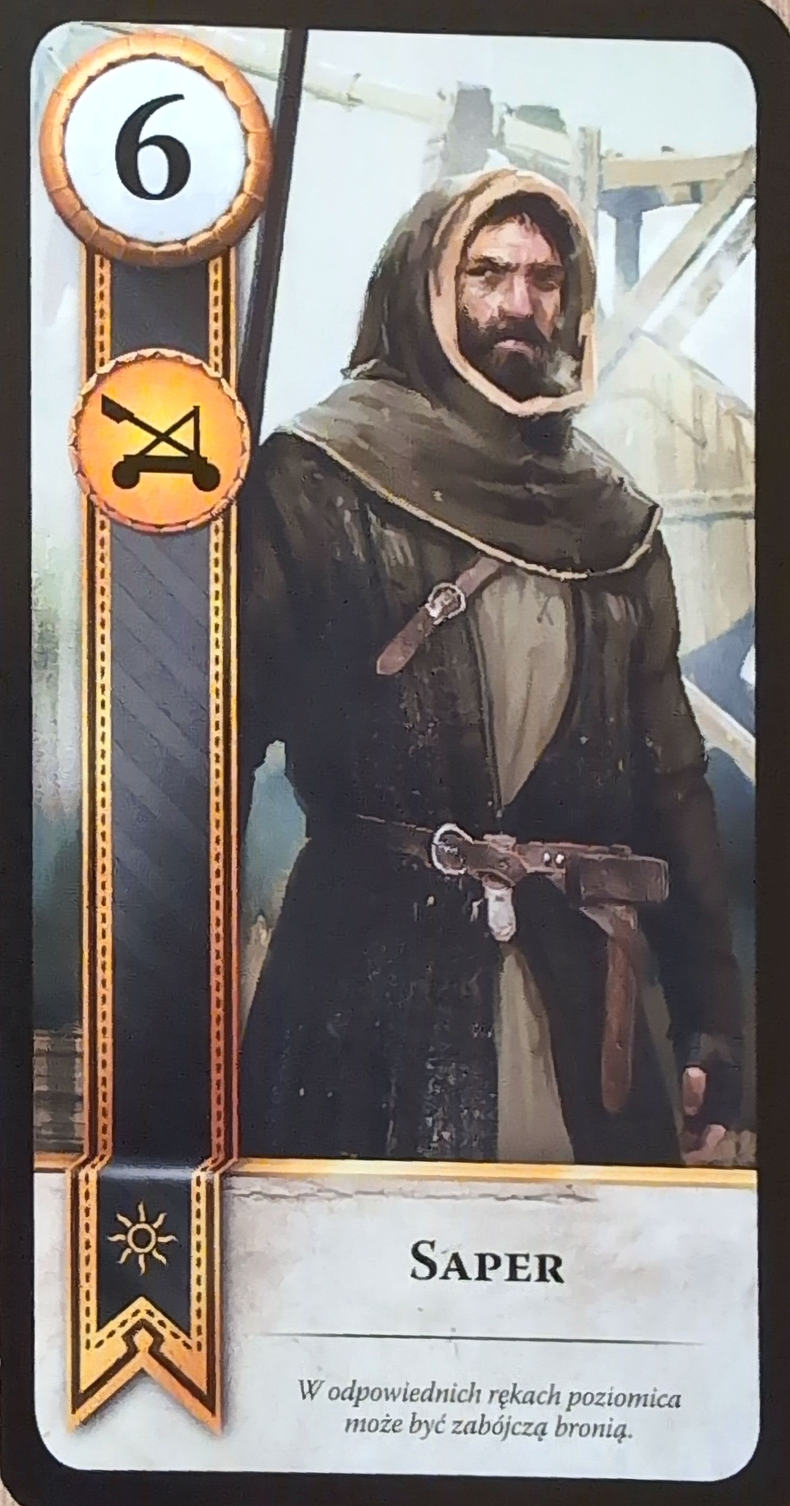6: (40, 35, 277, 270)
katapulta: (67, 348, 253, 535)
